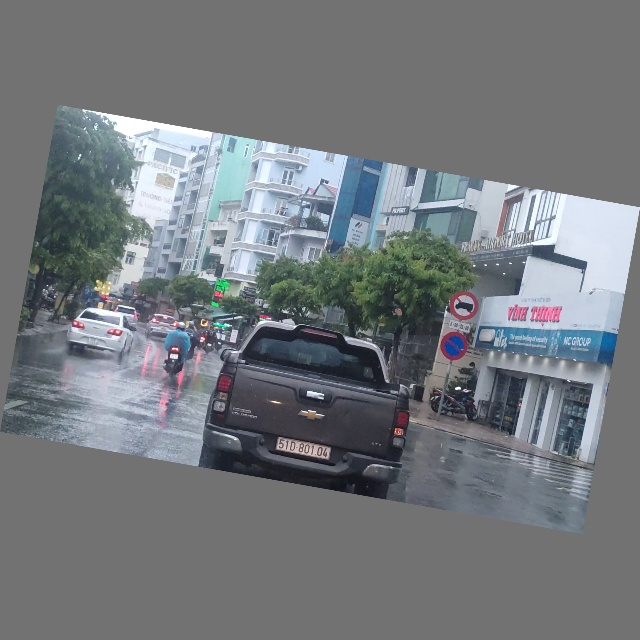P.106a*Xe tai: (448, 290, 481, 324)
P.131a: (438, 329, 470, 363)
